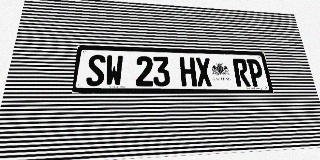2: (136, 56, 153, 86)
3: (153, 56, 170, 86)
H: (179, 57, 197, 86)
P: (246, 59, 265, 87)
R: (232, 58, 251, 87)
S: (86, 54, 106, 86)
W: (105, 55, 123, 86)
X: (195, 57, 213, 86)
